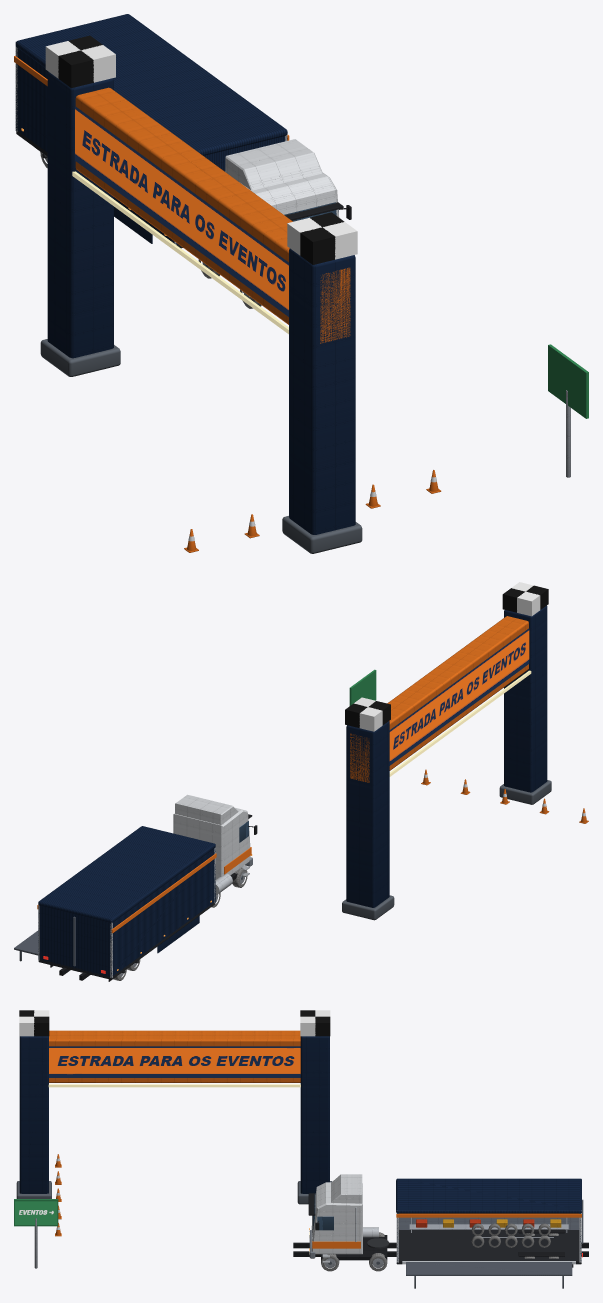
Rendered from portico_da_estrada.glb.
The picture shows the model from 3 angles, top to bottom: view 1: azimuth 30°, elevation 25°; view 2: azimuth 150°, elevation 25°; view 3: azimuth 270°, elevation 25°; orthographic projection. The views are drawn at different scales.
Parts seen in each view (by area): view 1: portico_da_estrada_metal, portico_da_estrada; view 2: portico_da_estrada, portico_da_estrada_metal; view 3: portico_da_estrada, portico_da_estrada_metal.
Part boxes in pixels (x1,y1,x2,y2): portico_da_estrada_metal: [15, 41, 570, 534]; portico_da_estrada: [14, 14, 588, 553]; portico_da_estrada: [14, 582, 588, 981]; portico_da_estrada_metal: [38, 605, 547, 980]; portico_da_estrada: [14, 1010, 583, 1288]; portico_da_estrada_metal: [19, 1030, 588, 1268].
Size of the model in its own units: 15.88 by 10.8 by 31.1.
10 materials, 8 textured.
